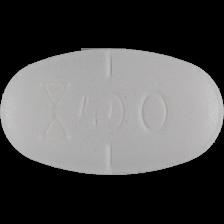50436-7286: (0, 0, 224, 224)
